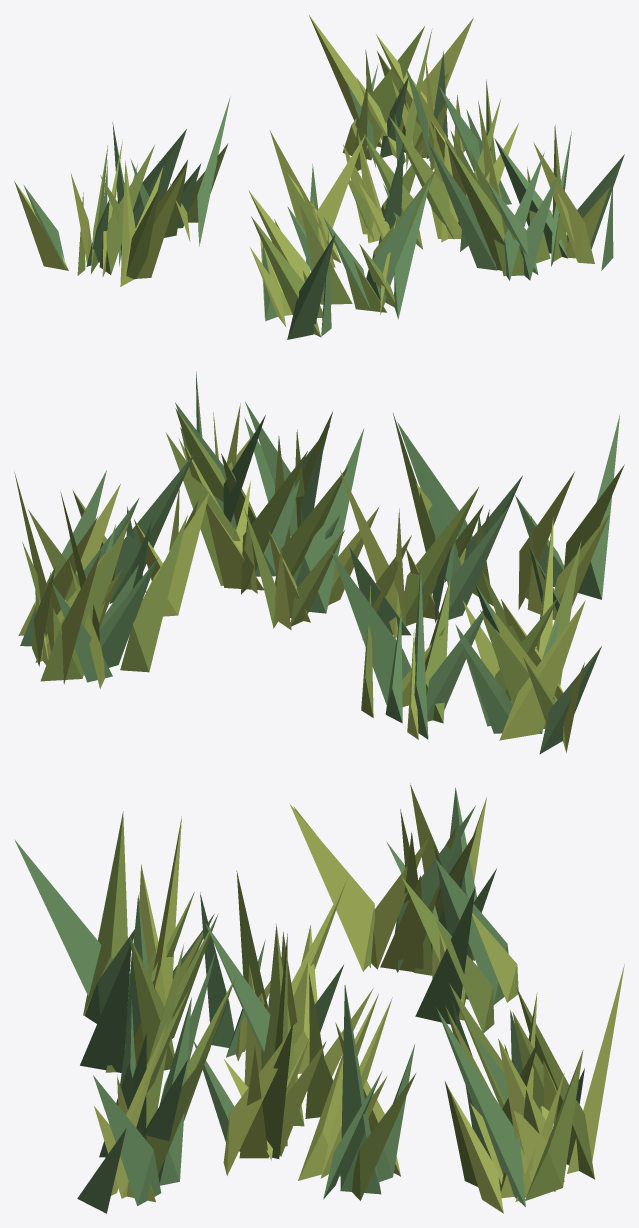
The model's file is garden_meadow.glb.
3 views of the same model, one above another, from view 1: azimuth 30°, elevation 25°; view 2: azimuth 150°, elevation 25°; view 3: azimuth 270°, elevation 25° (orthographic). The views are drawn at different scales.
Visible parts, largest first — view 1: garden_meadow; view 2: garden_meadow; view 3: garden_meadow.
Part boxes in pixels (left/top/right/bottom): garden_meadow: left=14, top=15, right=624, bottom=339; garden_meadow: left=14, top=371, right=624, bottom=754; garden_meadow: left=14, top=783, right=624, bottom=1213.
Size of the model in its own units: 0.9865 by 0.2684 by 0.8263.
